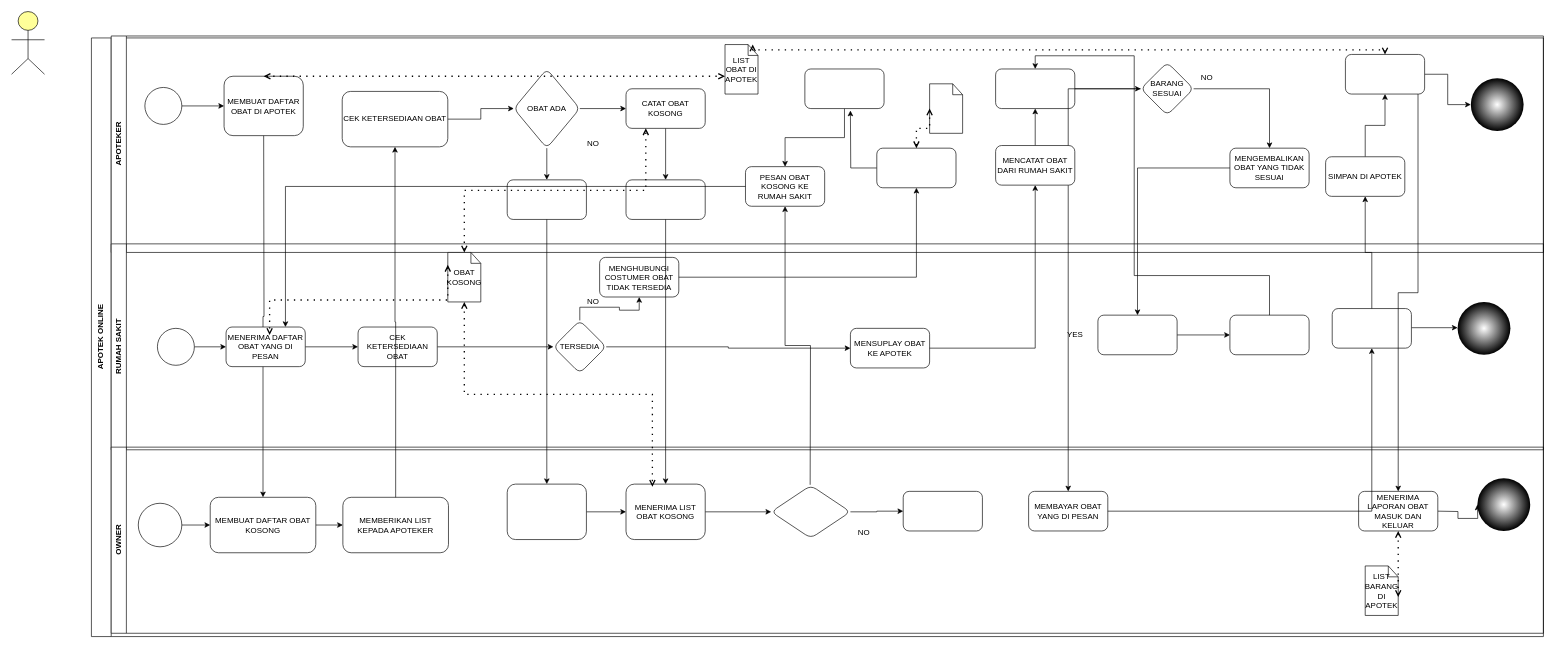
Some shapes in this 1555 by 648 pixel diagram are drawn without their labels. The centre of each missing label's shape, as x and y in pixels:
"ACC PEMBELIAN" goes at (810,511).
"CEK KESESUAIAN OBAT" goes at (1035,88).
"Daftar Rumah Sakit" goes at (946,108).
"LAPORAN OBAT MASUK DAN KELUAR" goes at (1385,74).
"MELIHAT DAFTAR RUMAH SAKIT" goes at (916,168).
"MEMBERIKAN LIST OBAT KOSONG" goes at (665,199).
"MEMBERIKAN OBAT KE APOTEK" goes at (546,199).
"MEMESAN BARANG Ke RUMAH SAKIT BERBEDA" goes at (844,88).
"MENERIMA OBAT DARI RUMAH SAKIT" goes at (546,511).
"MENERIMA OBAT YANG TIDAK SESUAI" goes at (1137,334).
"MENERIMA PEMBAYARAN" goes at (1371,328).
"MENGGANTI BARANG YANG TIDAK SESUAI" goes at (1269,334).
"TIDAK MEMBERIKAN IZIN" goes at (942,511).
